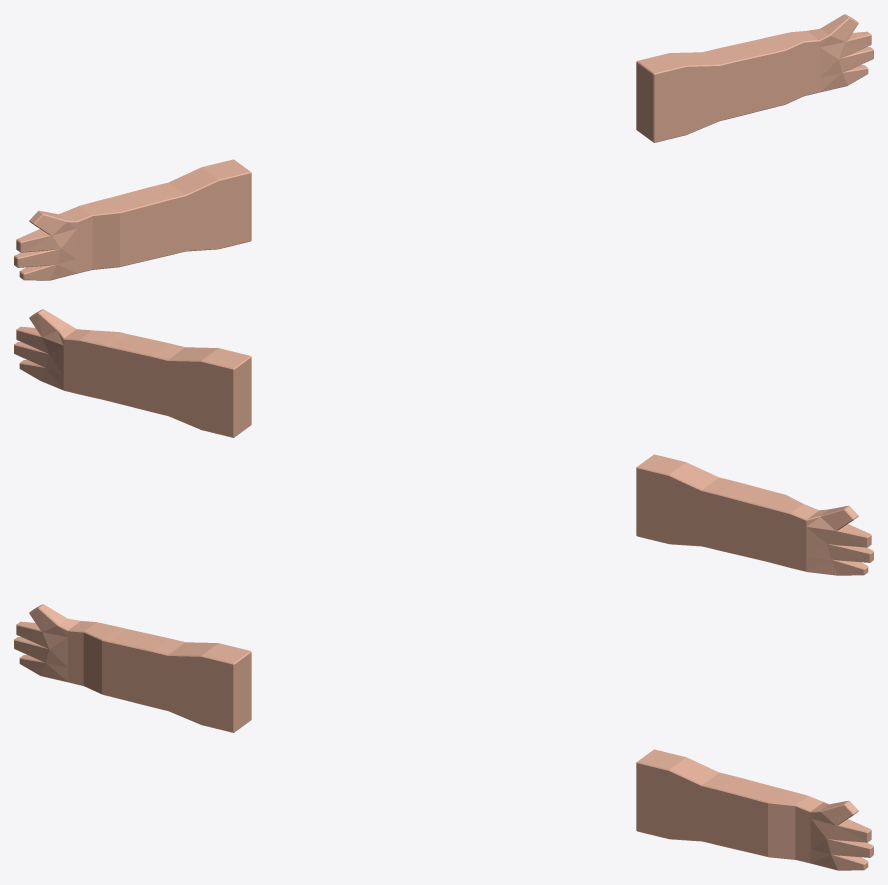
The model's file is hands.fbx.
3 renders of one model, top to bottom at view 1: azimuth 30°, elevation 25°; view 2: azimuth 150°, elevation 25°; view 3: azimuth 330°, elevation 25°, orthographic.
Parts seen in each view (by area): view 1: Hand; view 2: Hand; view 3: Hand.
Part boxes in pixels (<box>): Hand: <box>14,14,873,280</box>; Hand: <box>14,309,873,575</box>; Hand: <box>14,604,873,870</box>.
Bounding box in the file's own units: 7.56 × 0.6065 × 0.2751.
